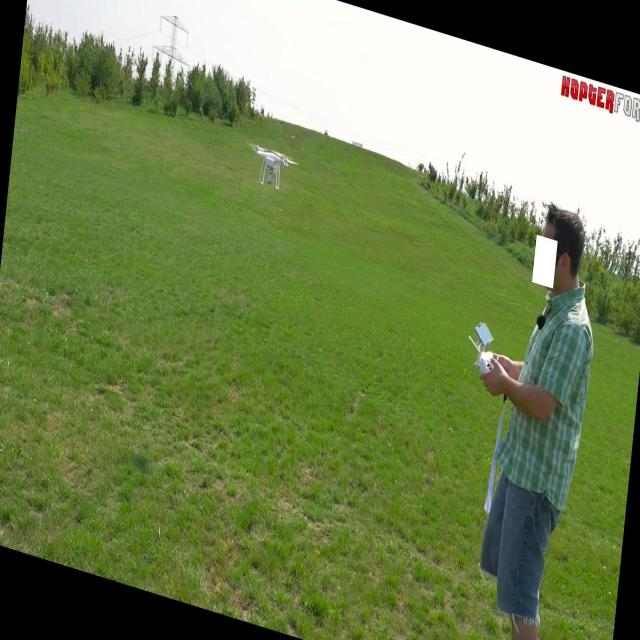drone: (247, 137, 298, 200)
